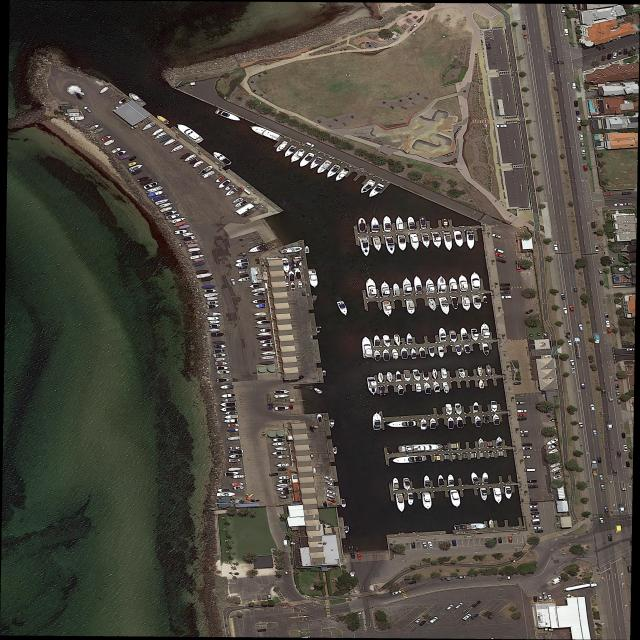large-vehicle: (565, 582, 598, 592), (573, 338, 582, 358), (462, 614, 472, 621), (594, 333, 600, 344), (591, 460, 597, 470), (620, 482, 627, 490), (608, 392, 614, 401), (619, 504, 625, 513), (498, 576, 511, 580), (615, 525, 621, 533), (607, 421, 612, 430), (525, 469, 536, 472)
ship: (174, 122, 205, 144), (249, 124, 283, 142), (214, 109, 243, 123), (398, 444, 442, 453), (211, 151, 233, 166), (127, 92, 148, 107), (392, 455, 427, 464), (288, 148, 307, 164), (367, 183, 385, 199), (359, 179, 377, 195), (298, 152, 316, 168), (315, 159, 333, 175), (324, 164, 342, 179), (360, 337, 372, 359), (454, 523, 487, 531), (384, 235, 397, 255), (438, 297, 452, 315), (359, 237, 371, 257), (365, 278, 377, 298), (280, 245, 304, 255), (386, 420, 416, 428), (308, 156, 324, 170), (443, 232, 454, 252), (450, 490, 462, 508), (247, 244, 268, 254), (308, 269, 319, 288), (282, 145, 298, 158), (431, 232, 443, 249), (334, 169, 349, 182), (409, 234, 421, 250), (155, 114, 171, 126), (413, 276, 423, 295), (396, 493, 406, 512), (156, 134, 173, 145), (422, 492, 433, 509), (458, 275, 469, 292), (337, 301, 349, 316), (402, 277, 412, 295), (405, 299, 417, 314), (274, 141, 289, 153), (367, 377, 377, 395), (216, 179, 232, 190), (382, 301, 393, 317), (461, 295, 472, 311), (140, 122, 157, 132), (372, 413, 382, 430), (437, 276, 447, 293), (472, 295, 483, 310), (471, 273, 480, 291), (198, 165, 214, 175), (372, 236, 382, 252), (398, 235, 408, 251), (380, 281, 390, 297), (168, 144, 184, 154), (160, 138, 176, 148), (493, 488, 503, 504), (425, 278, 435, 294), (454, 231, 464, 247), (128, 163, 145, 172), (467, 230, 475, 249), (183, 153, 198, 163), (448, 277, 458, 292), (421, 233, 431, 248), (233, 200, 249, 209), (383, 216, 392, 232), (143, 181, 159, 190), (147, 190, 165, 198), (428, 298, 438, 312), (151, 194, 168, 202), (224, 188, 239, 197), (370, 217, 379, 232), (395, 216, 404, 231), (153, 131, 168, 140), (382, 334, 392, 347), (165, 213, 181, 221), (154, 198, 170, 206), (191, 160, 205, 169), (407, 216, 416, 230), (151, 128, 165, 137), (451, 296, 460, 310), (438, 328, 447, 342), (282, 258, 290, 273), (159, 201, 174, 209), (481, 324, 489, 339), (480, 488, 489, 501), (471, 472, 480, 485), (482, 343, 491, 356), (449, 330, 458, 343), (460, 328, 469, 341), (358, 218, 366, 232), (392, 283, 400, 297), (170, 217, 186, 224), (545, 438, 559, 446), (400, 347, 409, 359), (412, 369, 421, 381), (474, 415, 483, 427), (423, 382, 432, 394), (103, 138, 116, 146), (447, 474, 455, 487), (454, 403, 462, 416), (419, 216, 427, 229), (471, 328, 479, 341), (418, 347, 427, 358), (458, 368, 467, 379), (159, 206, 173, 213), (164, 209, 178, 216), (215, 176, 227, 184), (234, 262, 250, 268), (250, 287, 266, 293), (115, 149, 127, 157), (189, 254, 205, 260), (382, 349, 390, 361), (550, 461, 562, 469), (547, 442, 559, 450), (481, 472, 489, 484), (403, 370, 411, 382), (403, 478, 411, 490), (445, 404, 453, 416), (490, 401, 498, 413), (456, 416, 464, 428), (422, 370, 430, 382), (433, 381, 441, 393), (442, 382, 450, 394), (217, 492, 236, 497), (394, 334, 401, 347), (88, 124, 101, 131), (204, 292, 219, 298), (220, 384, 235, 390), (313, 387, 324, 395), (373, 350, 381, 361), (294, 269, 302, 280), (288, 271, 296, 282), (98, 87, 109, 95), (391, 349, 399, 360), (410, 348, 418, 359), (397, 384, 405, 395), (485, 365, 493, 376), (68, 116, 85, 121), (220, 407, 237, 412), (232, 197, 244, 204), (373, 335, 380, 347), (174, 229, 188, 235), (182, 235, 196, 241), (185, 239, 199, 245), (547, 448, 559, 455), (447, 417, 454, 429), (395, 370, 402, 382), (420, 418, 427, 430), (392, 478, 399, 490), (493, 414, 500, 426), (438, 346, 445, 358), (256, 332, 272, 337), (255, 320, 271, 325), (251, 299, 267, 304), (224, 471, 240, 476), (228, 449, 244, 454), (220, 402, 236, 407), (441, 218, 449, 228), (237, 277, 250, 283), (207, 303, 220, 309), (174, 221, 187, 227), (424, 475, 430, 488), (408, 493, 414, 506), (224, 184, 235, 191), (117, 98, 128, 105), (111, 147, 122, 154), (550, 466, 561, 473), (496, 437, 503, 448), (430, 418, 437, 429), (377, 372, 384, 383), (472, 402, 479, 413), (455, 345, 462, 356), (274, 394, 289, 399), (274, 389, 289, 394), (259, 355, 274, 360), (261, 351, 276, 356), (221, 393, 236, 398), (224, 414, 239, 419), (406, 333, 412, 345), (101, 135, 113, 141), (205, 312, 223, 316), (276, 463, 290, 468), (275, 406, 289, 411), (235, 258, 249, 263), (253, 312, 267, 317), (252, 292, 266, 297), (248, 284, 262, 289), (213, 353, 227, 358), (221, 398, 235, 403), (229, 454, 243, 459), (478, 438, 485, 448), (415, 383, 422, 393), (386, 372, 393, 382), (379, 386, 386, 396), (478, 379, 485, 389), (428, 347, 435, 357), (464, 344, 471, 354), (127, 161, 138, 167), (438, 475, 444, 486), (432, 369, 438, 380), (441, 368, 447, 379), (276, 454, 289, 459), (272, 442, 285, 447), (254, 304, 267, 309), (233, 474, 246, 479), (228, 458, 241, 463), (261, 343, 273, 348), (259, 339, 271, 344), (216, 370, 231, 374), (215, 357, 227, 362), (207, 300, 219, 305), (182, 232, 194, 237), (224, 419, 239, 423), (552, 474, 562, 480), (477, 367, 483, 377), (276, 487, 290, 491), (272, 451, 283, 456), (228, 428, 239, 433), (329, 419, 335, 428), (317, 414, 323, 423), (553, 470, 562, 476), (341, 499, 347, 508), (272, 438, 285, 442), (277, 476, 290, 480), (216, 366, 229, 370), (217, 378, 230, 382), (217, 488, 230, 492), (224, 411, 237, 415), (259, 328, 271, 332), (275, 447, 287, 451), (276, 483, 288, 487), (279, 491, 291, 495), (290, 282, 296, 290), (216, 361, 228, 365), (214, 349, 226, 353), (209, 328, 221, 332), (210, 324, 222, 328), (207, 316, 219, 320), (232, 482, 244, 486), (488, 520, 494, 528), (483, 416, 489, 424), (209, 320, 220, 324), (234, 486, 245, 490), (229, 446, 240, 450), (316, 326, 322, 333), (297, 281, 303, 288), (304, 246, 310, 253), (483, 296, 489, 303), (277, 480, 289, 483), (228, 424, 240, 427), (344, 527, 350, 533), (333, 447, 338, 454), (215, 345, 226, 348), (205, 289, 216, 292), (322, 371, 326, 376)
small-vehicle: (493, 248, 505, 254), (429, 616, 439, 623), (454, 602, 464, 609), (325, 493, 336, 499), (323, 480, 334, 486), (304, 141, 315, 147), (83, 106, 92, 113), (470, 613, 479, 620), (472, 600, 481, 607), (445, 604, 454, 611), (327, 498, 337, 504), (326, 489, 336, 495), (323, 475, 333, 481), (492, 233, 502, 239), (495, 253, 506, 258), (391, 590, 402, 595), (525, 309, 534, 315), (487, 613, 496, 619), (131, 124, 139, 130), (501, 295, 513, 299), (454, 575, 466, 579), (283, 538, 288, 547), (528, 485, 539, 489), (606, 53, 612, 60), (553, 244, 559, 251), (569, 359, 575, 366), (567, 340, 573, 347), (350, 552, 356, 559), (238, 266, 248, 270), (500, 287, 510, 291), (517, 417, 527, 421), (544, 628, 554, 632), (230, 279, 236, 285), (500, 291, 509, 295), (427, 542, 433, 548), (534, 526, 543, 530), (516, 265, 521, 272), (564, 29, 569, 36), (613, 52, 618, 59), (563, 307, 568, 314), (419, 620, 426, 625), (625, 461, 630, 468), (581, 382, 586, 389), (599, 517, 604, 524), (591, 222, 596, 229), (578, 324, 583, 331), (590, 404, 595, 411), (623, 445, 628, 452), (414, 618, 421, 623), (422, 542, 427, 549), (526, 480, 537, 483), (496, 124, 507, 127), (486, 42, 490, 50), (500, 283, 510, 286), (561, 6, 566, 12), (571, 83, 576, 89), (579, 134, 584, 140), (522, 447, 532, 450), (522, 443, 532, 446), (517, 410, 527, 413), (571, 368, 576, 374), (561, 294, 566, 300), (603, 193, 613, 196), (604, 507, 609, 513), (598, 270, 603, 276), (607, 328, 612, 334), (452, 540, 457, 546), (411, 542, 416, 548), (357, 553, 362, 559), (547, 595, 552, 601), (508, 537, 513, 543), (584, 165, 588, 172), (595, 245, 599, 252), (579, 422, 583, 429), (240, 274, 249, 277), (622, 192, 631, 195), (554, 61, 563, 64), (516, 402, 525, 405), (615, 203, 624, 206), (257, 629, 266, 632), (530, 509, 539, 512), (513, 382, 522, 385), (529, 502, 538, 505), (531, 512, 540, 515), (523, 34, 528, 39), (577, 126, 582, 131), (581, 149, 586, 154), (632, 46, 636, 52), (278, 468, 286, 471), (574, 101, 578, 107), (577, 117, 581, 123), (580, 142, 584, 148), (582, 155, 586, 161), (523, 456, 531, 459), (574, 286, 578, 292), (518, 414, 526, 417), (624, 203, 632, 206), (533, 522, 541, 525), (522, 24, 526, 30), (608, 535, 612, 541), (615, 384, 619, 390), (605, 314, 609, 320), (606, 321, 610, 327), (602, 390, 606, 396), (614, 376, 618, 382), (601, 485, 605, 491), (616, 391, 620, 397), (593, 430, 597, 436), (617, 452, 621, 458), (599, 475, 603, 481), (530, 505, 538, 508), (498, 537, 502, 543), (533, 596, 537, 602), (538, 596, 542, 602), (532, 515, 540, 518), (521, 430, 528, 433), (618, 51, 622, 56), (601, 57, 606, 61), (576, 111, 580, 116), (570, 306, 574, 311), (268, 595, 272, 600), (617, 400, 621, 405), (621, 433, 625, 438), (624, 49, 627, 55), (598, 457, 601, 463), (614, 470, 617, 476), (535, 530, 543, 532), (600, 281, 604, 285)
storage-tank: (268, 431, 277, 437), (277, 431, 286, 437), (258, 367, 267, 373), (268, 366, 276, 372)
